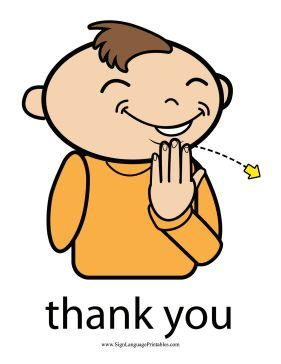Thankyou: (149, 138, 209, 239)
